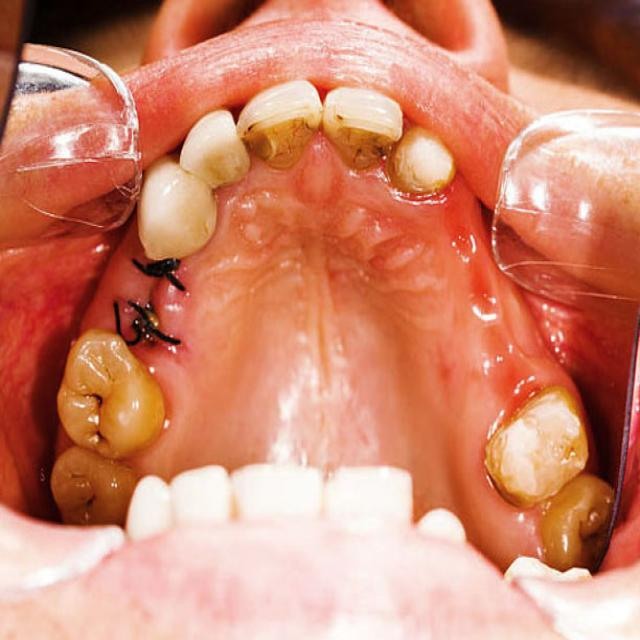caries: (238, 106, 320, 173), (326, 104, 395, 173), (78, 484, 116, 517), (81, 380, 112, 417), (86, 423, 114, 458)
